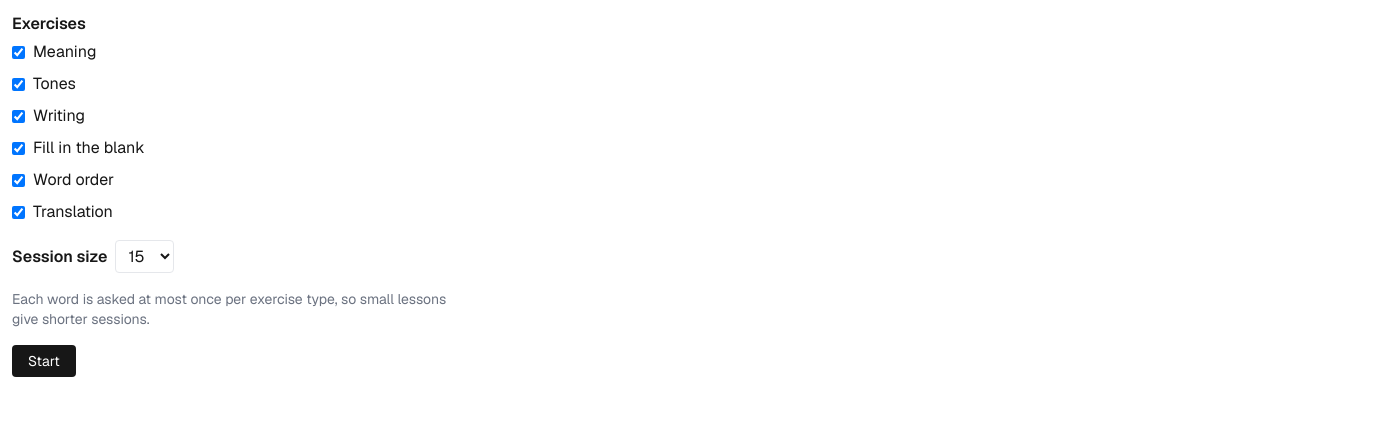
Scenario: PracticePlayer › lists missed tone exercises with the tone-marked syllables
The image size is (1390, 440).
Click the button "Start".
click(44, 361)  # box left=12, top=345, right=76, bottom=377
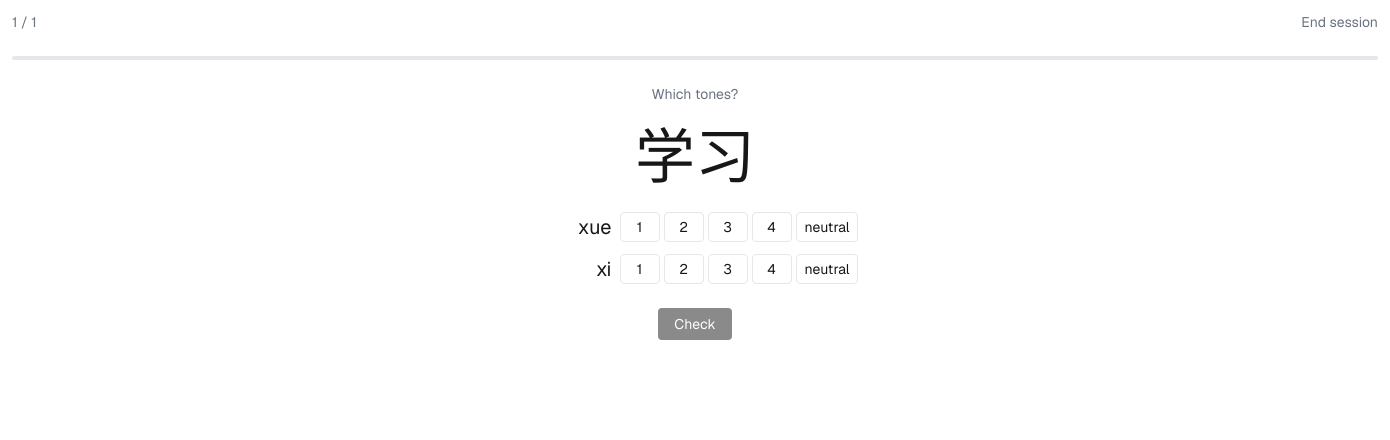
Click the button "2" in the row of "xue".
click(684, 227)  # box left=664, top=212, right=704, bottom=242
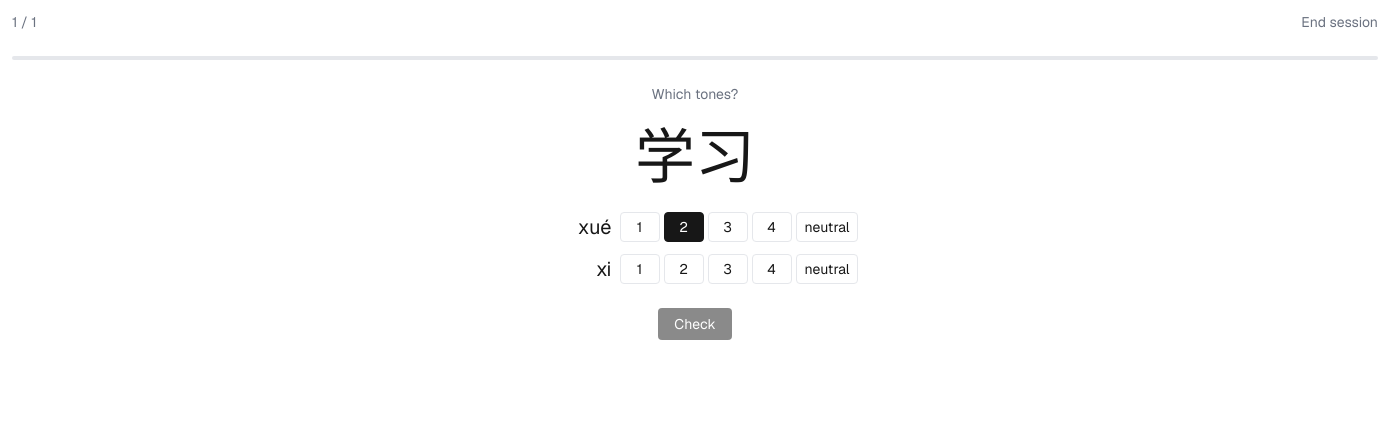
Click the button "4" in the row of "xi".
click(772, 269)  # box left=752, top=254, right=792, bottom=284
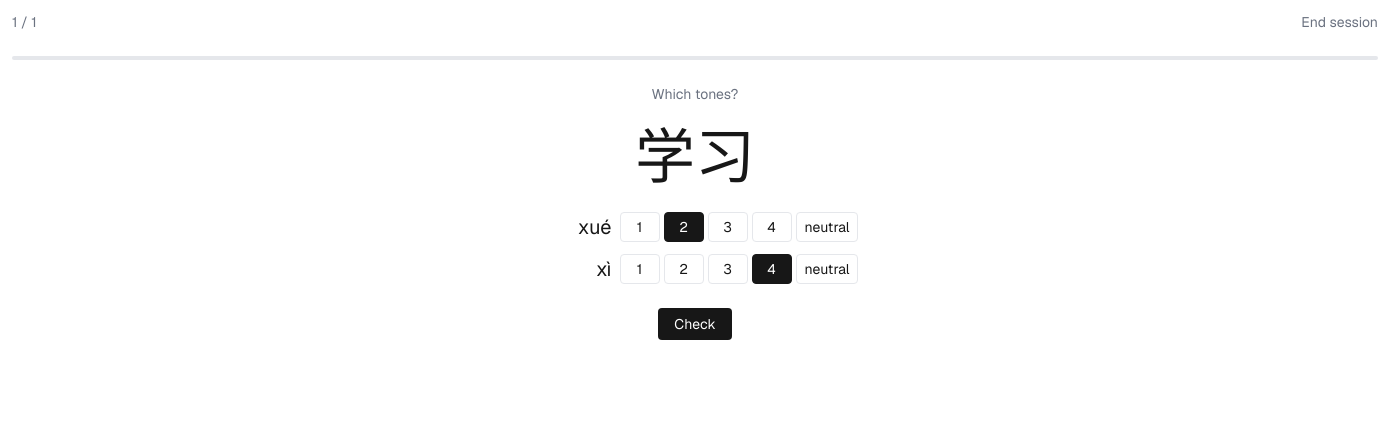
Click the button "Check".
click(695, 324)  # box left=658, top=308, right=732, bottom=340
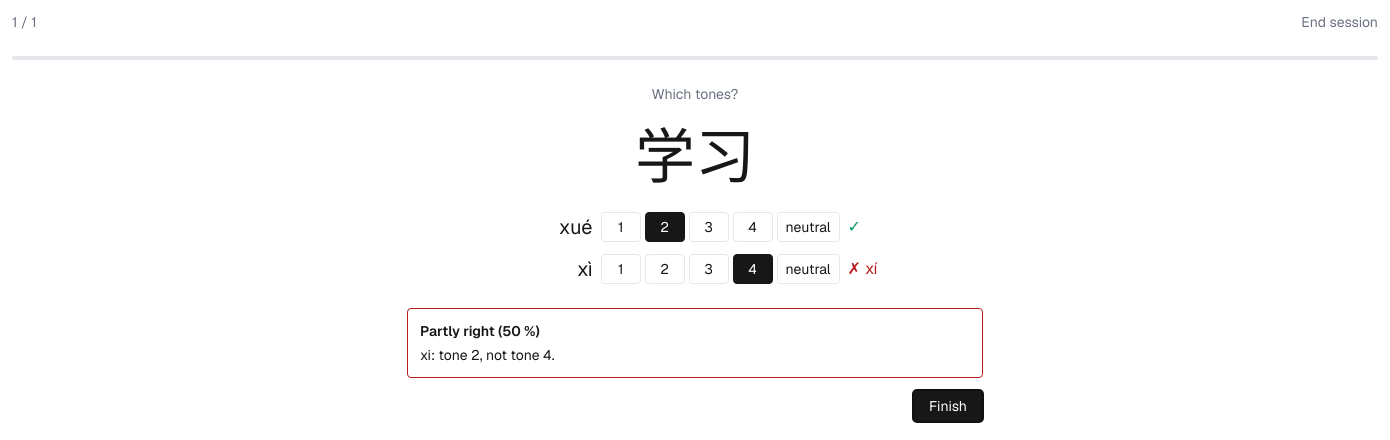
Click the button "Finish".
click(948, 406)  # box left=913, top=390, right=983, bottom=422
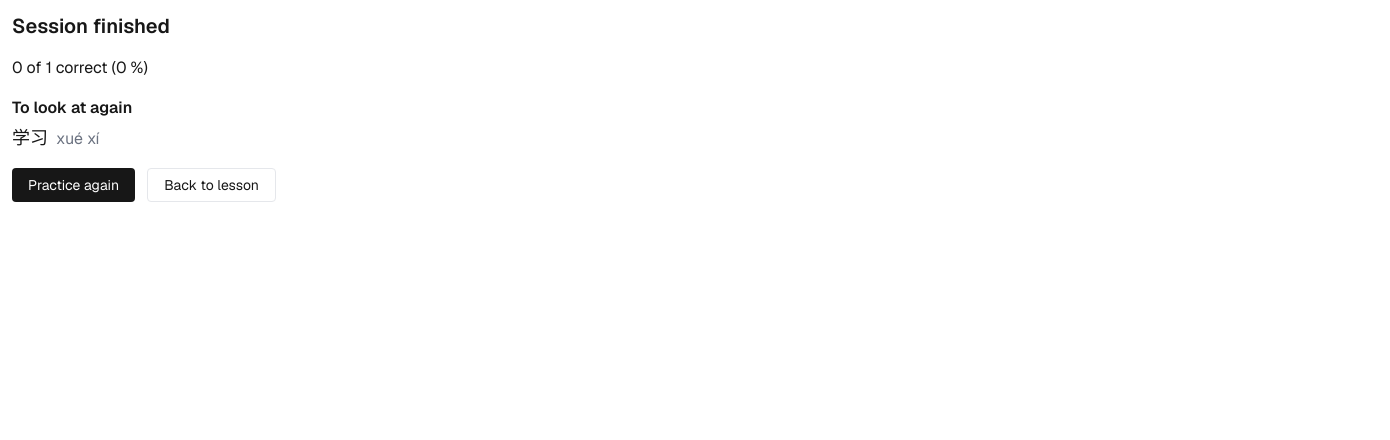
Expected: the text "xué xí" is shown, left=56, top=127, right=100, bottom=151
